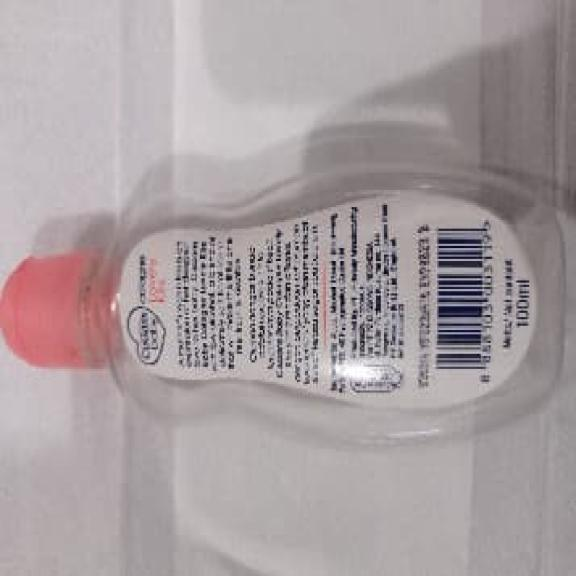Plastik: (1, 162, 565, 444)
